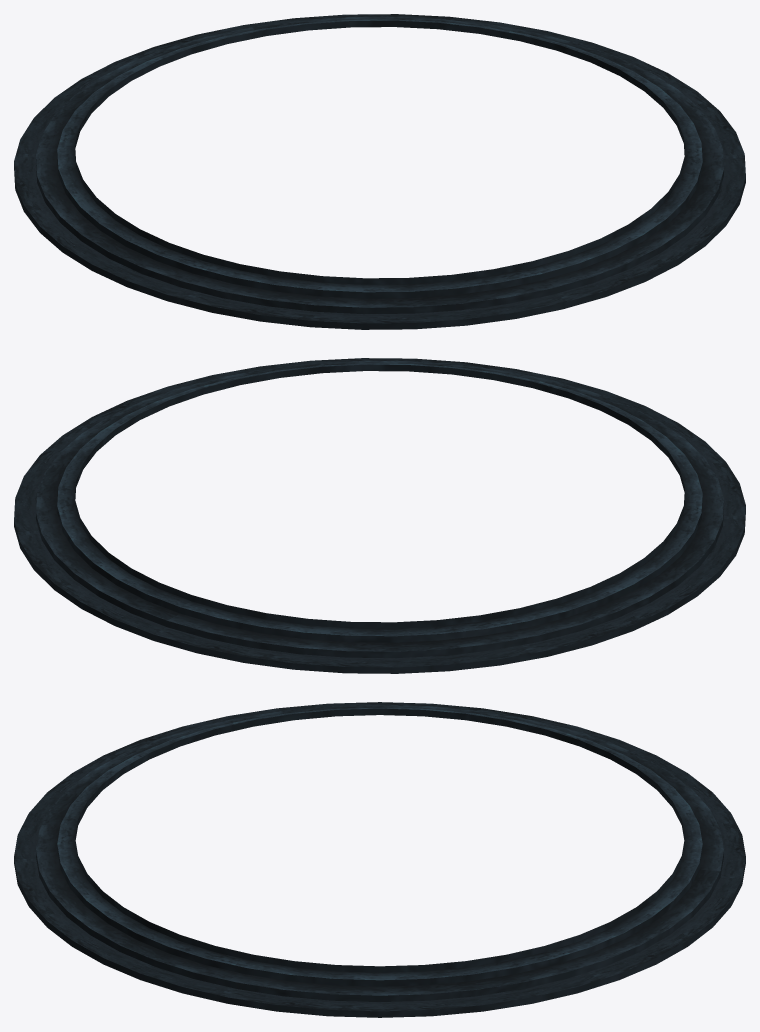
The model's file is floor01.fbx.
3 views of the same model, one above another, from view 1: azimuth 30°, elevation 25°; view 2: azimuth 150°, elevation 25°; view 3: azimuth 270°, elevation 25° (orthographic).
Visible parts, largest first — view 1: floor; view 2: floor; view 3: floor.
Part boxes in pixels (left/top/right/bottom): floor: left=14, top=14, right=745, bottom=329; floor: left=14, top=358, right=745, bottom=673; floor: left=14, top=702, right=745, bottom=1017.
Size of the model in its own units: 882 by 34.24 by 882.
